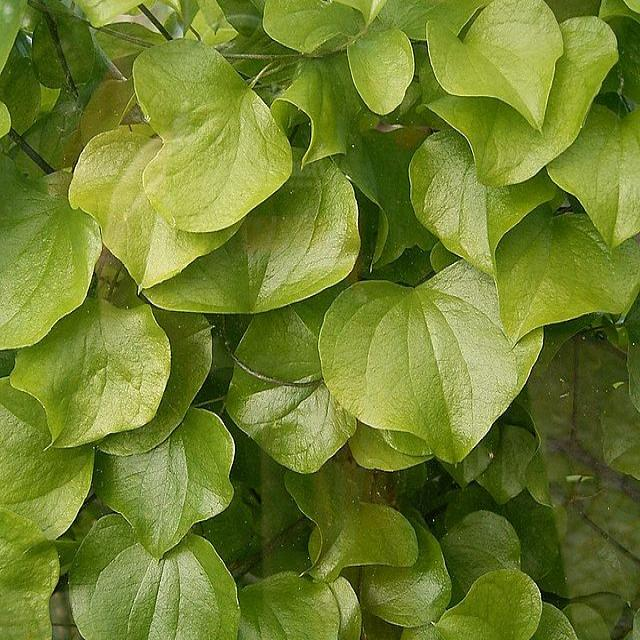Yam: (287, 0, 623, 310), (266, 489, 618, 640), (56, 143, 298, 320), (3, 472, 244, 640), (322, 260, 520, 463), (26, 304, 196, 508), (134, 44, 298, 205)
